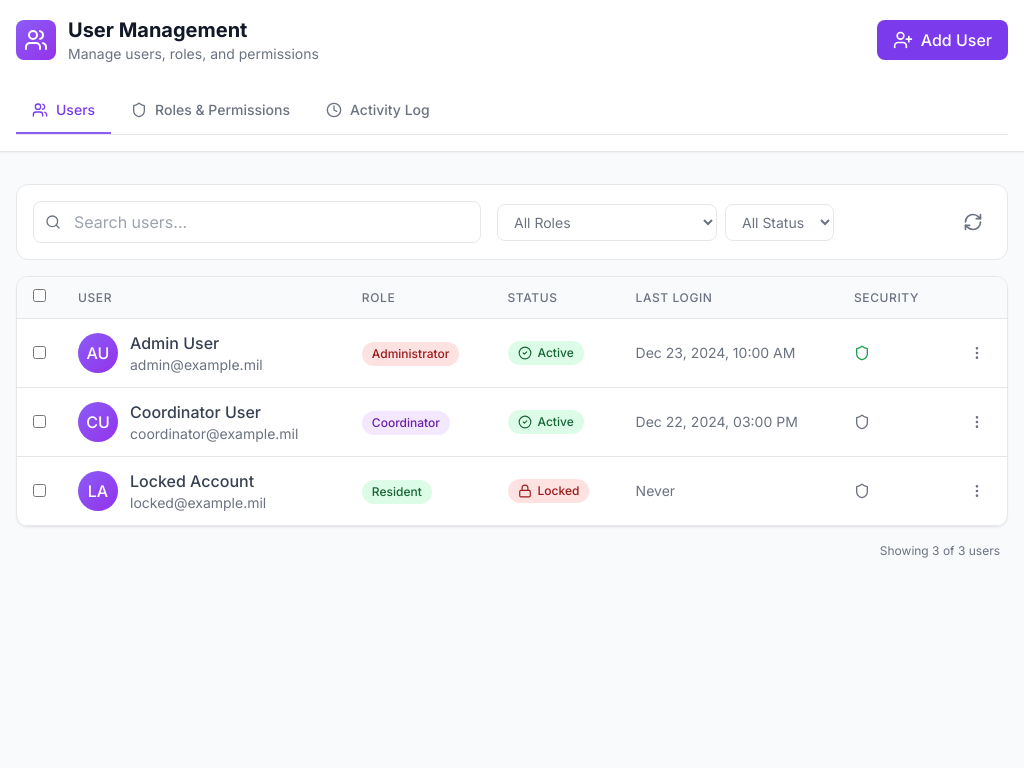
Test case: AdminUsersPage › Search Functionality › should clear search
Type "Admin" into the field with placeholder "Search users..." at point(257, 222), box [33, 201, 481, 243]
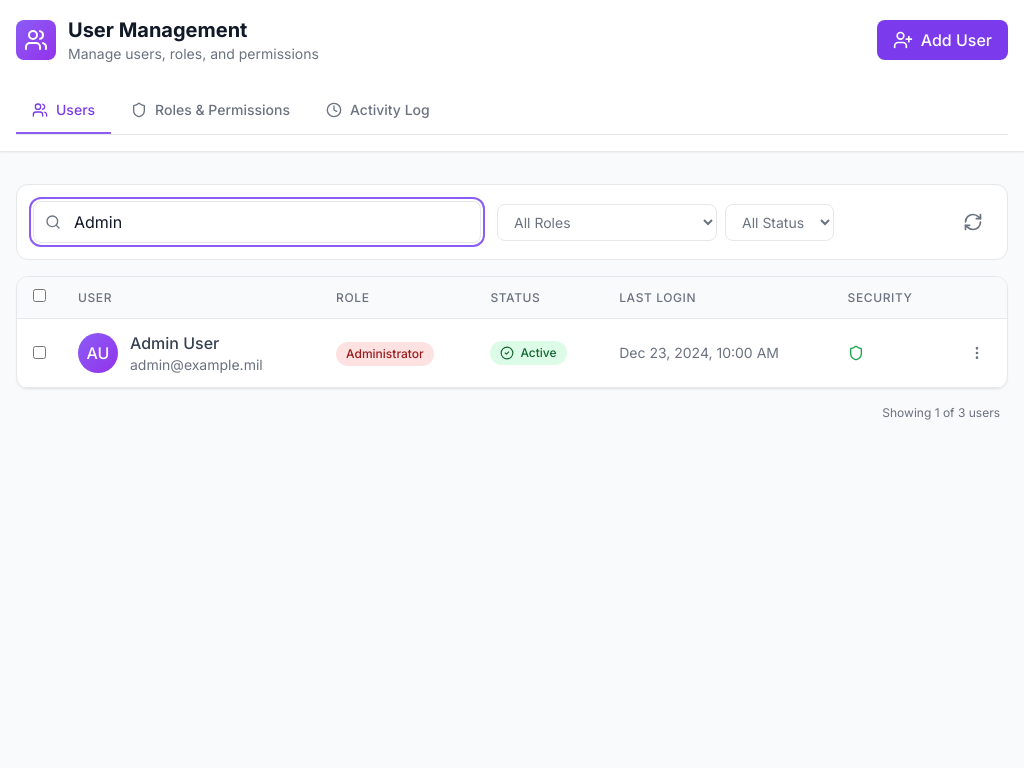
Clear the field with placeholder "Search users..." at point(257, 222), box [33, 201, 481, 243]
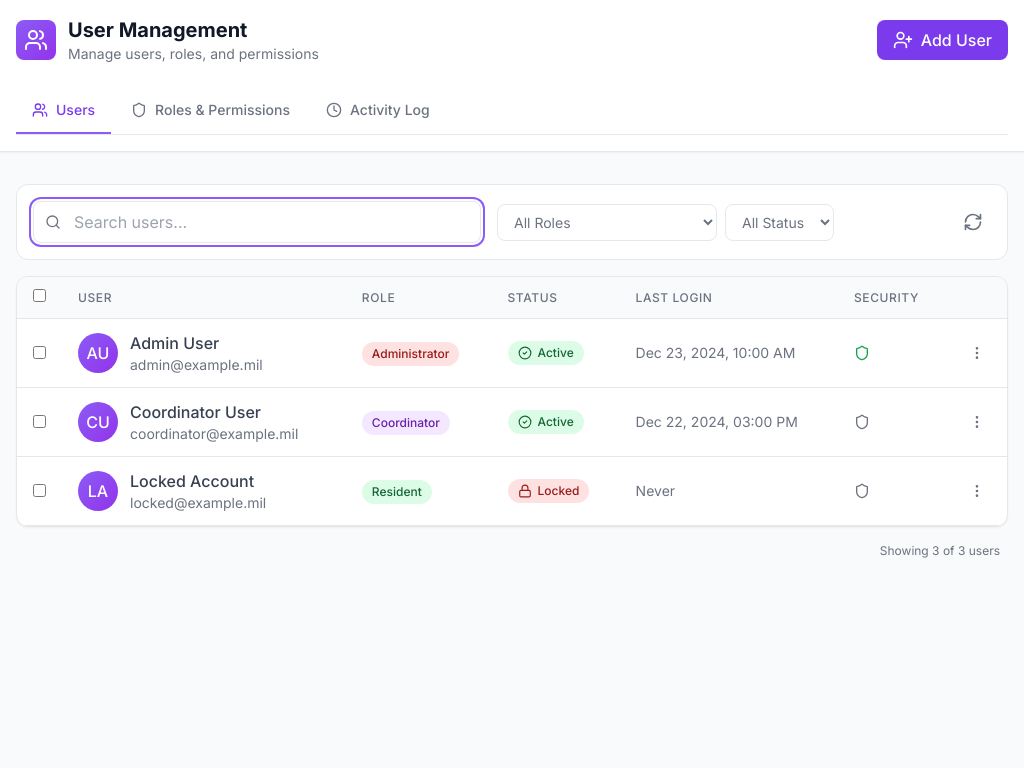
Expected: the text "Admin User" is shown, [130, 333, 219, 353]
Expected: the text "Coordinator User" is shown, [130, 402, 261, 422]
